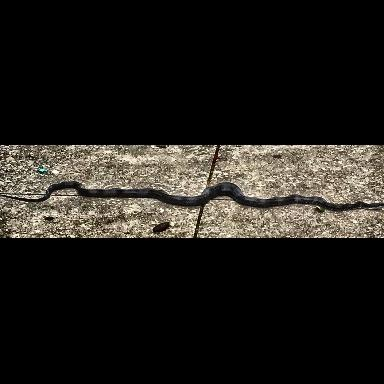snake: (0, 182, 382, 232)
